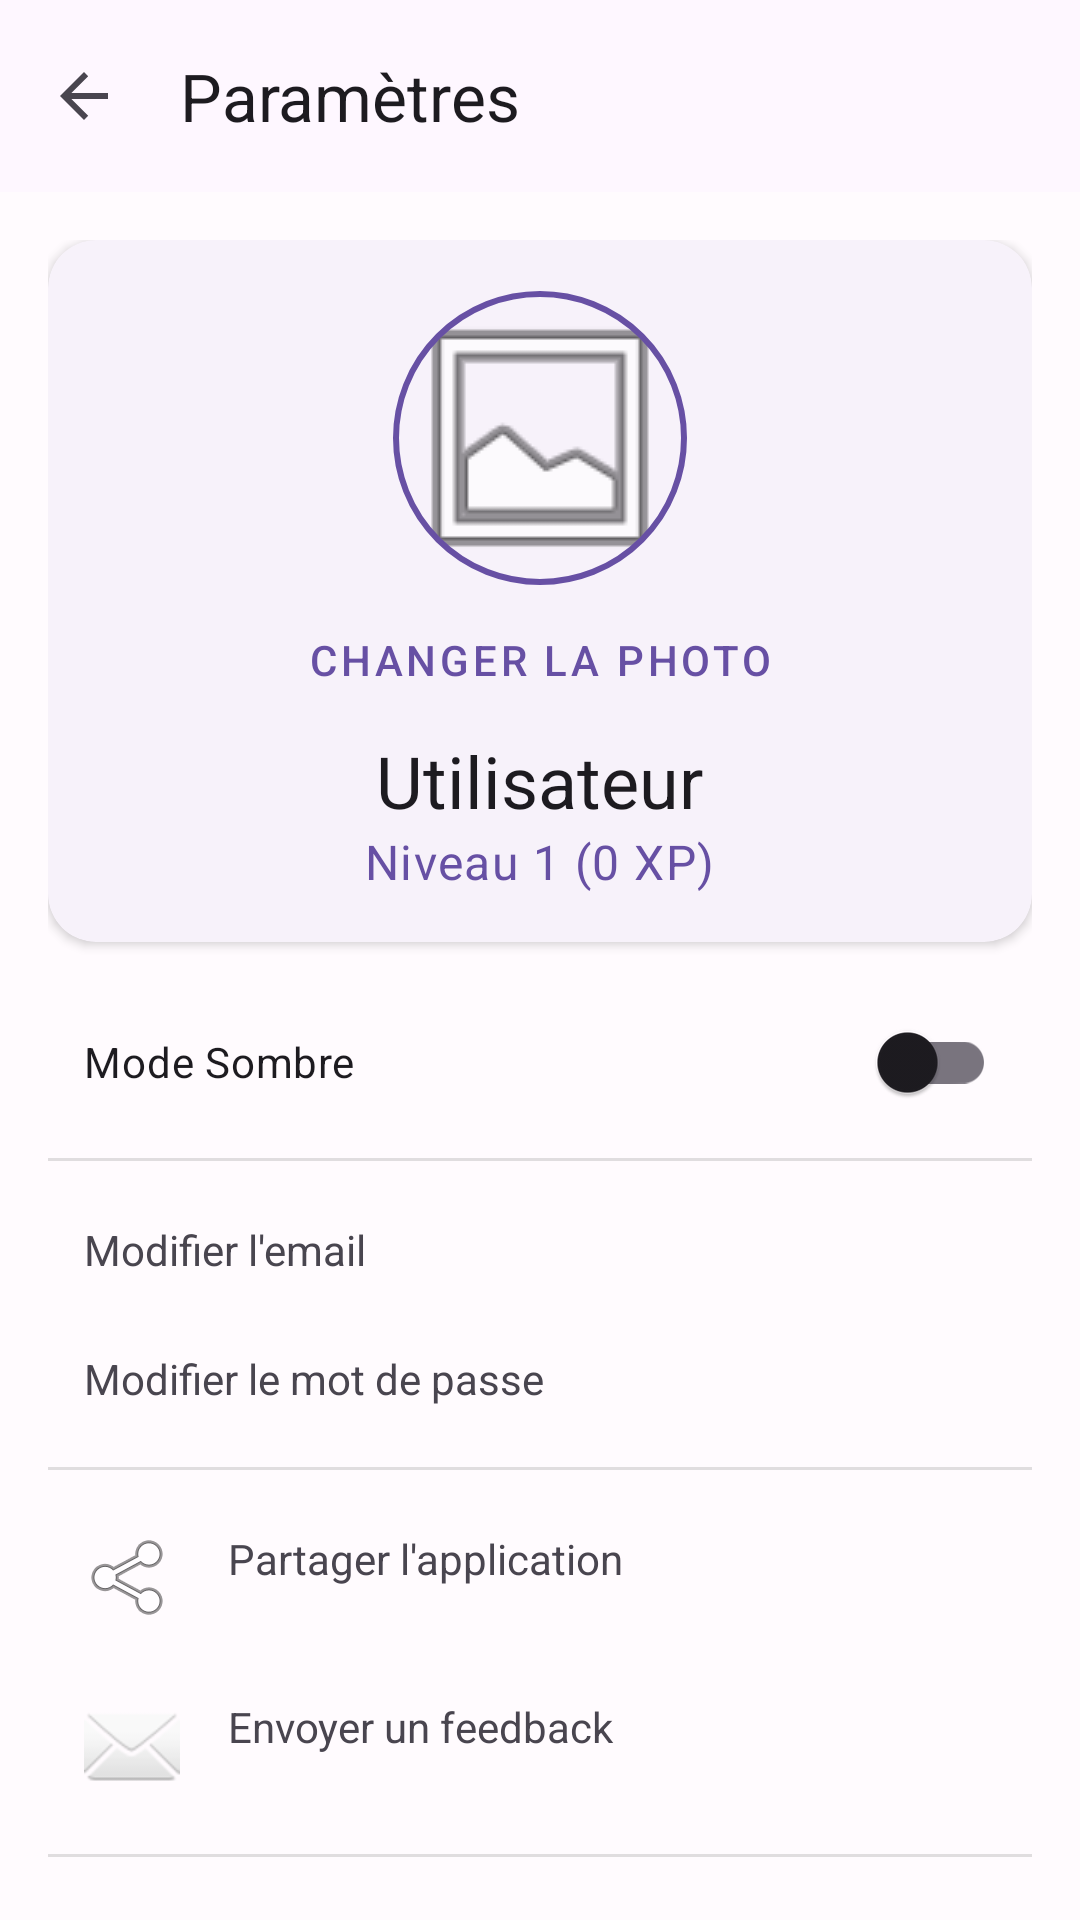

Named icons in this screenshot (1080px x 1920px) and their centers, point (x, y):
gallery: point (540, 438)
